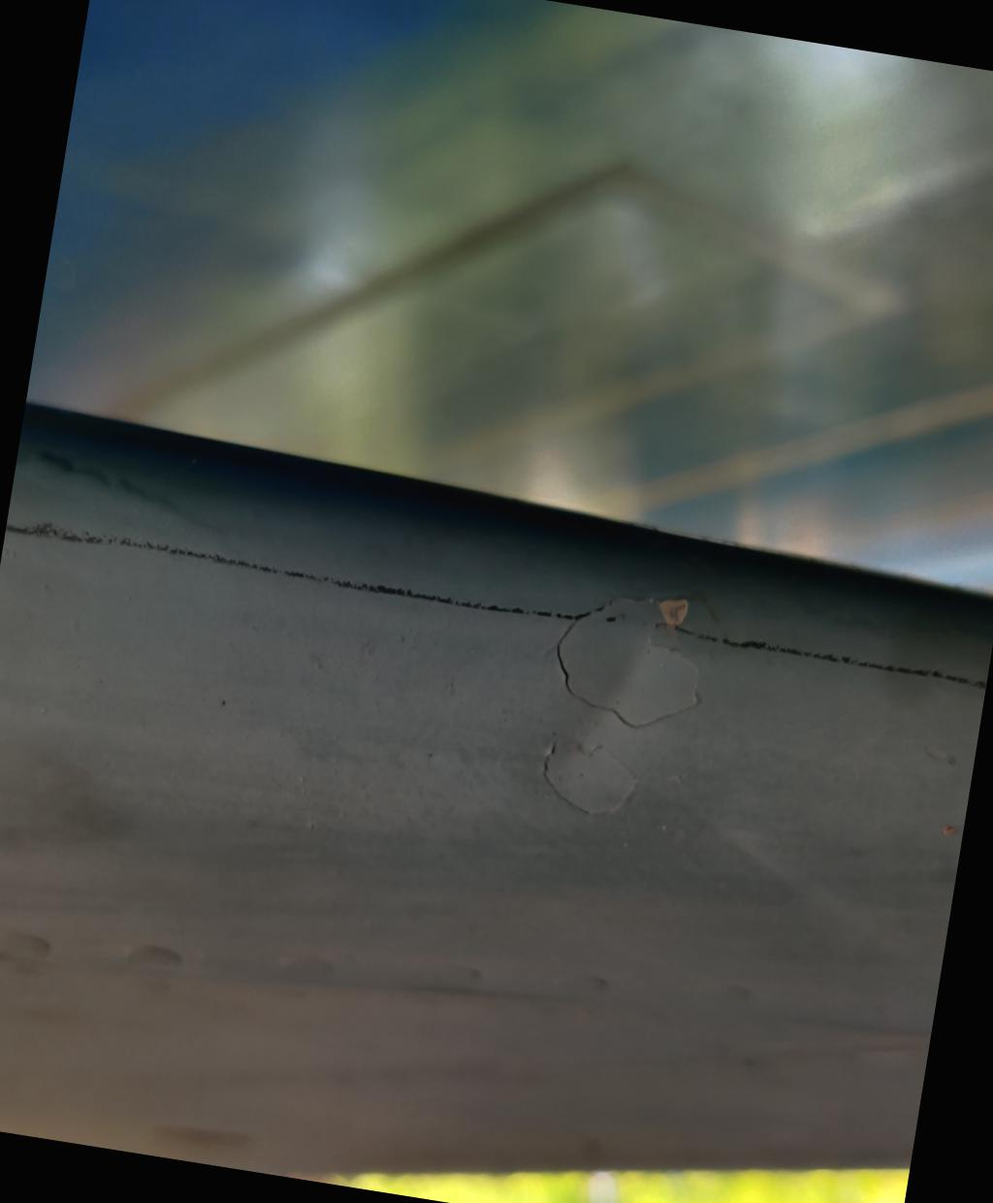dent: (454, 534, 750, 886)
